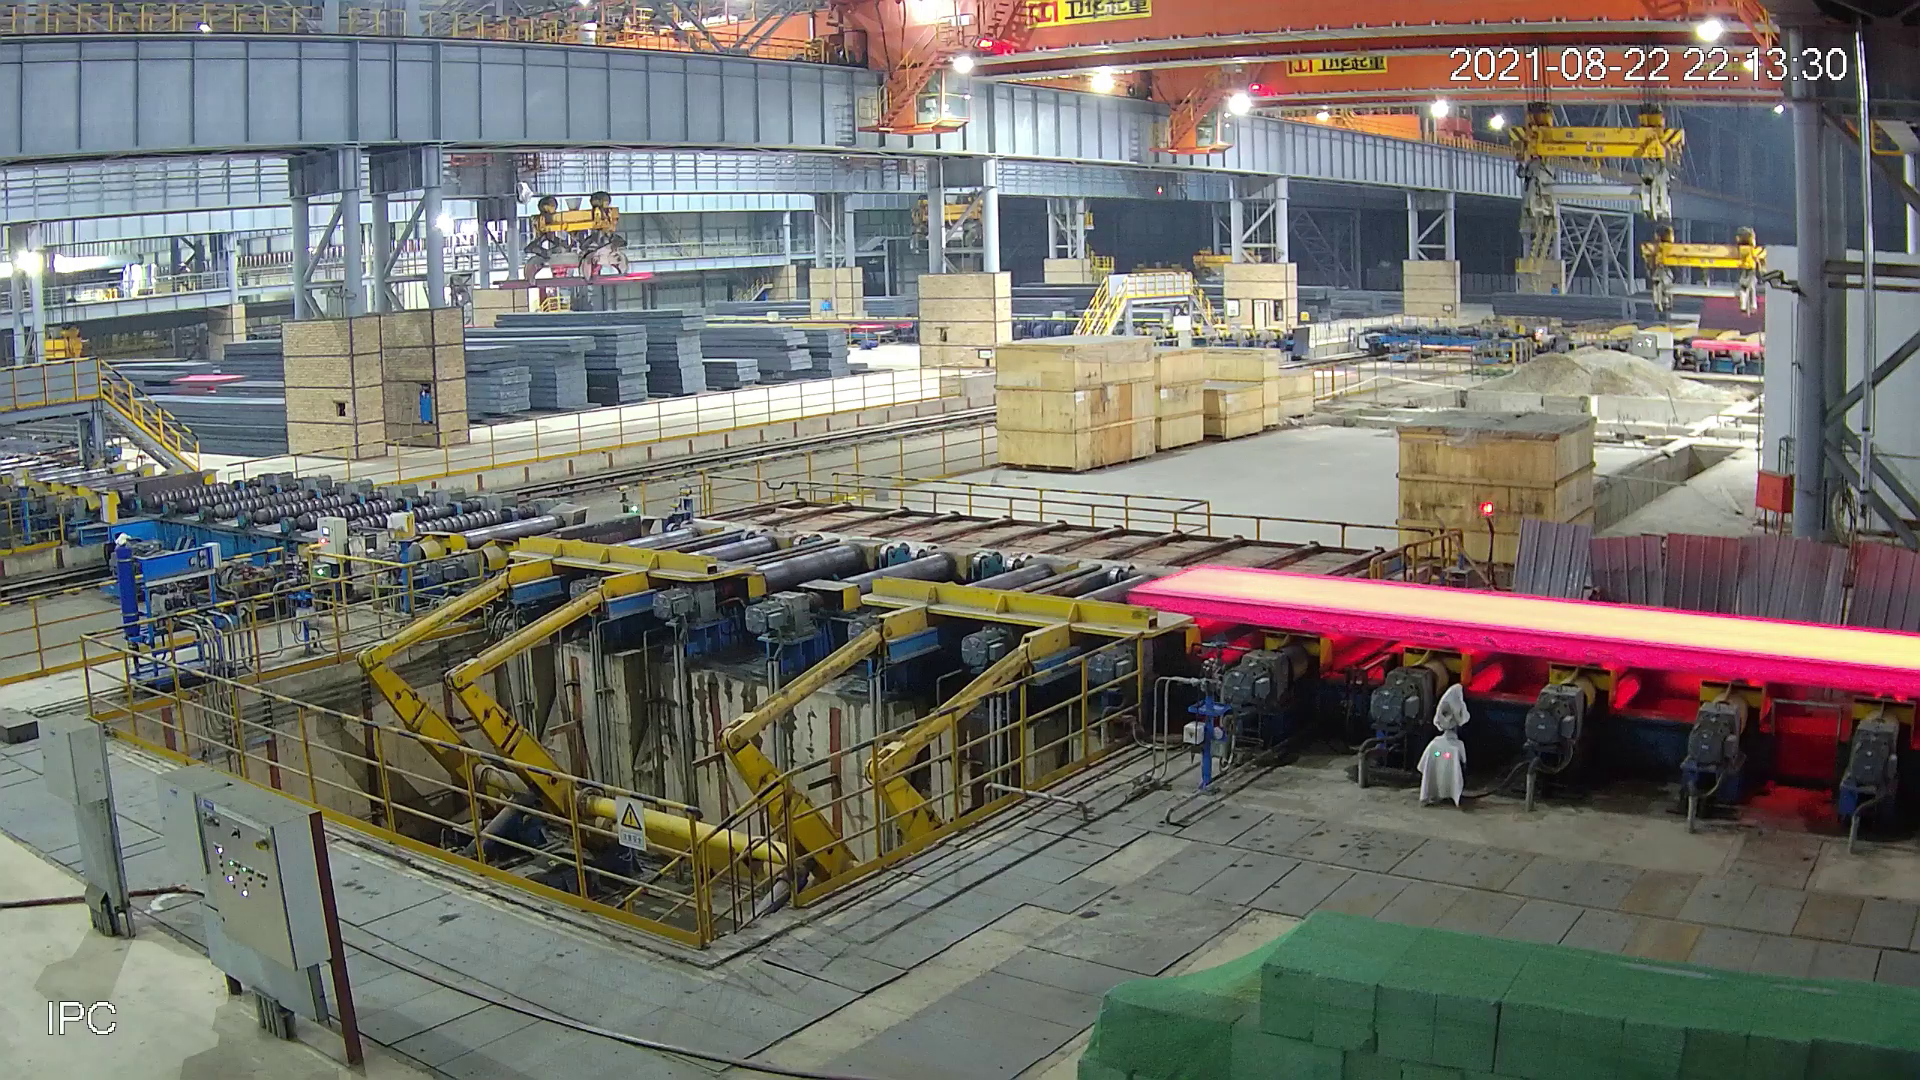slab: (1125, 560, 1920, 698)
